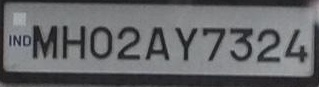character: (31, 22, 59, 61), (60, 22, 88, 60), (255, 27, 281, 64), (89, 22, 113, 61), (115, 25, 141, 61), (144, 26, 170, 62), (228, 25, 254, 61), (283, 28, 308, 65), (174, 25, 198, 62), (201, 26, 226, 61)
